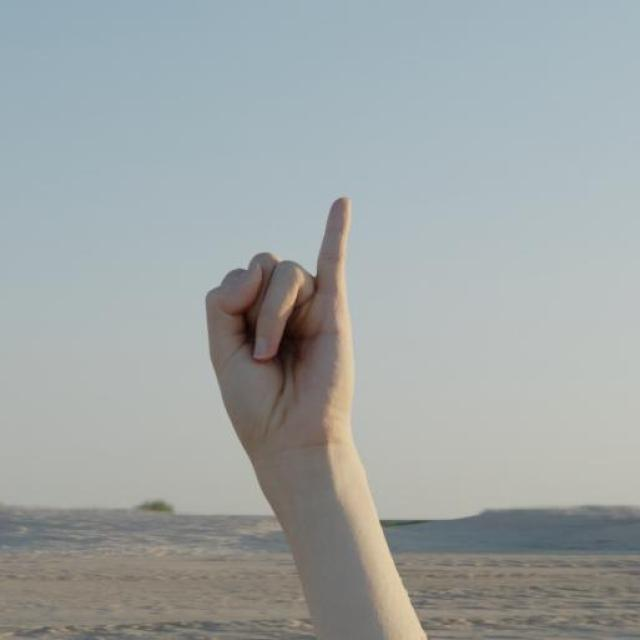I: (201, 191, 358, 439)
